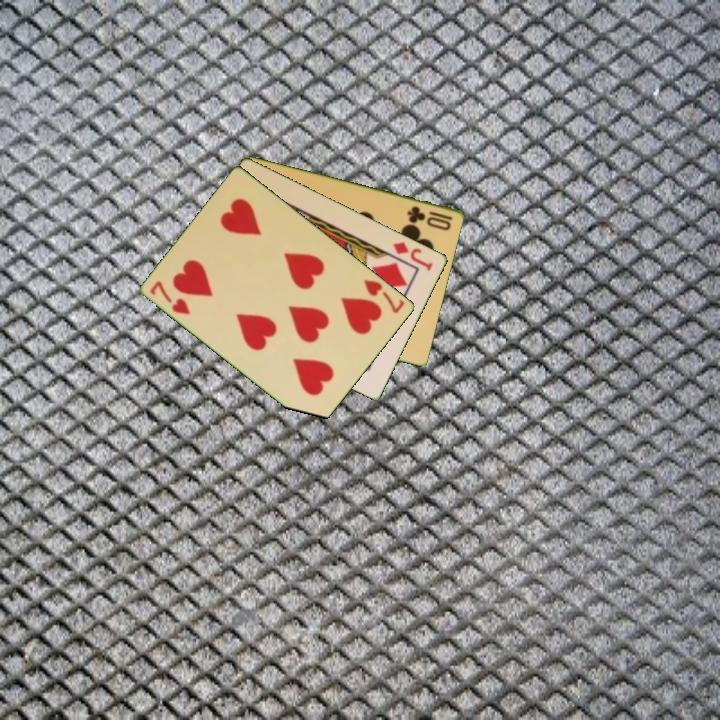10c: (404, 202, 456, 233)
7h: (146, 277, 194, 318), (360, 276, 408, 316)
Jd: (390, 238, 436, 274)
